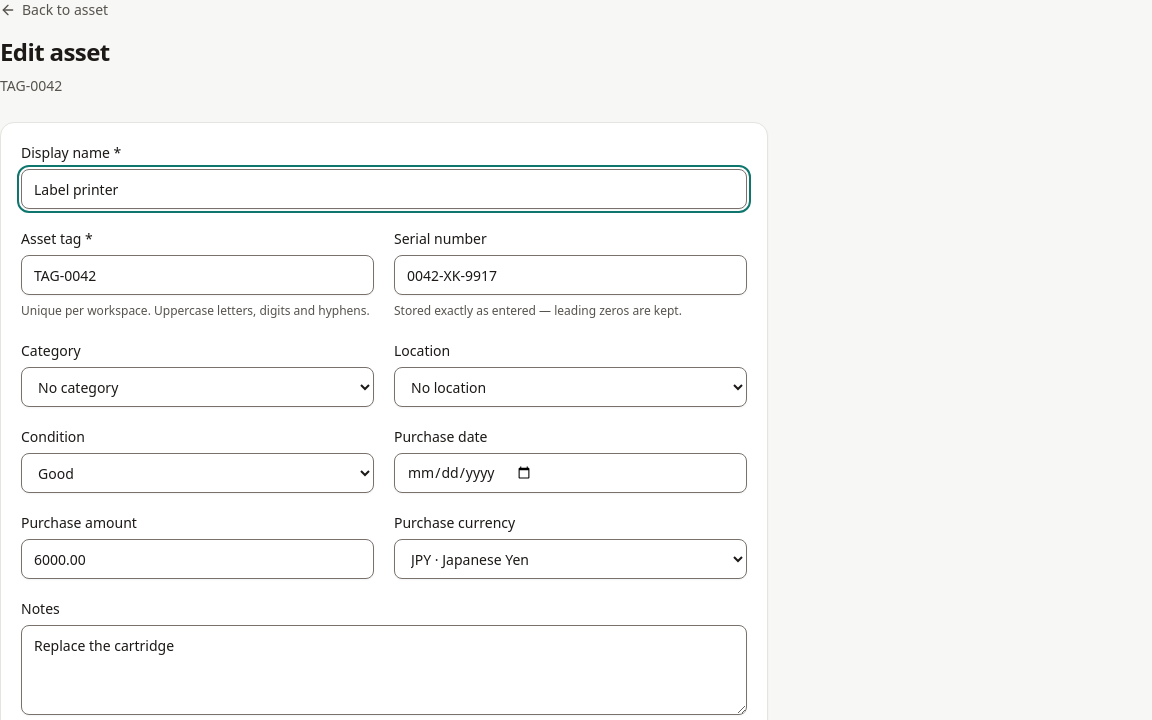
it: AssetForm › keeps the draft after a stale write and loads untouched fields from the latest version
Step 1. Replace the text in the text box labelled "Notes" with "New cartridge fitted" → (384, 670), box top-left (21, 625), bottom-right (747, 715)
(page scrolled)
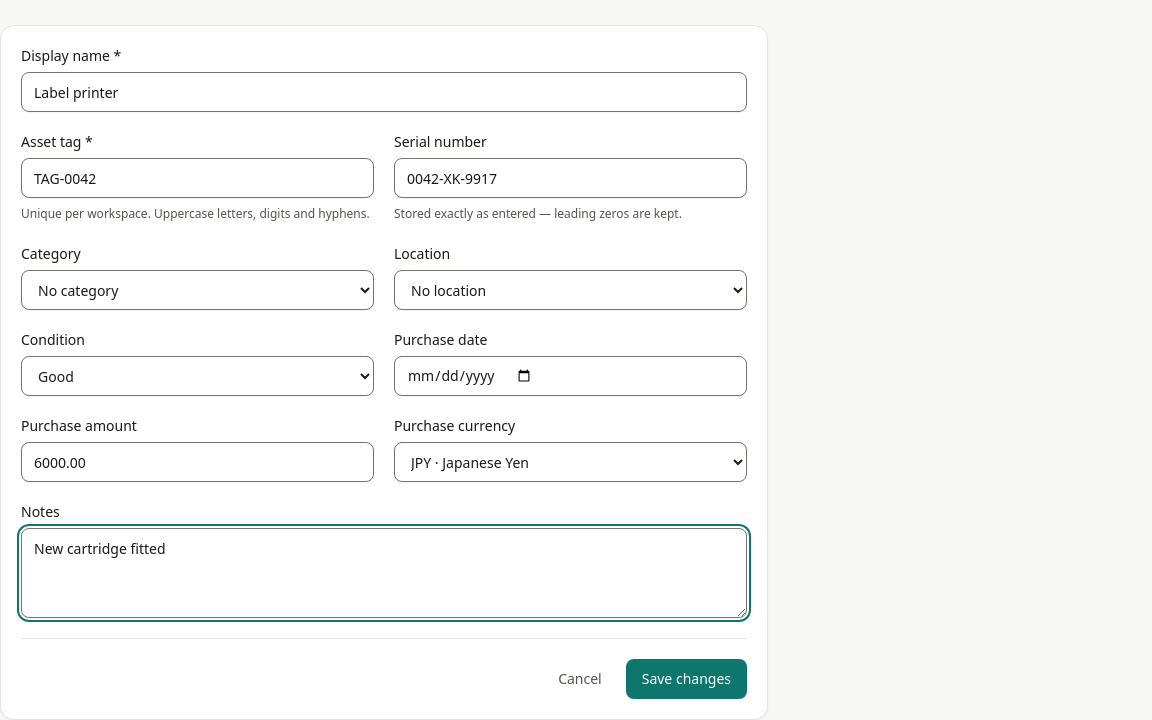
Step 2. Click the button "Save changes" → (686, 679), box top-left (626, 659), bottom-right (747, 699)
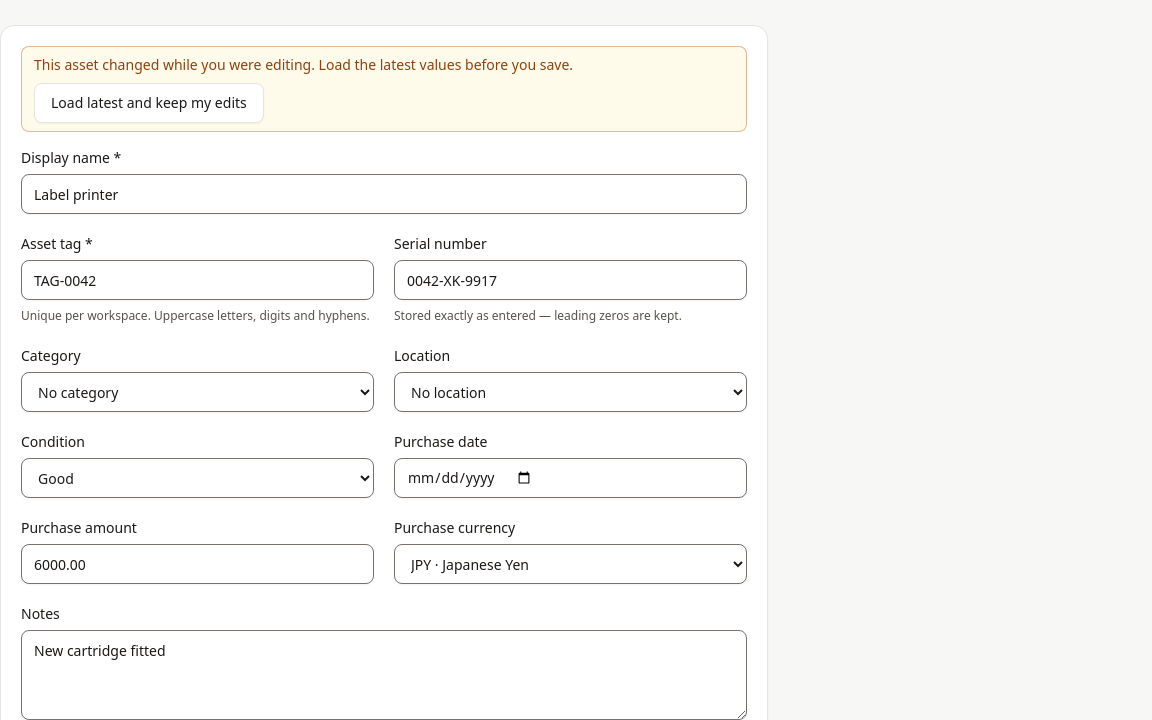
Now the message shows "This asset changed", box top-left (34, 55), bottom-right (573, 74)
Step 3. Click the button "Load latest and keep my edits" → (149, 103), box top-left (34, 83), bottom-right (264, 123)
(page scrolled)
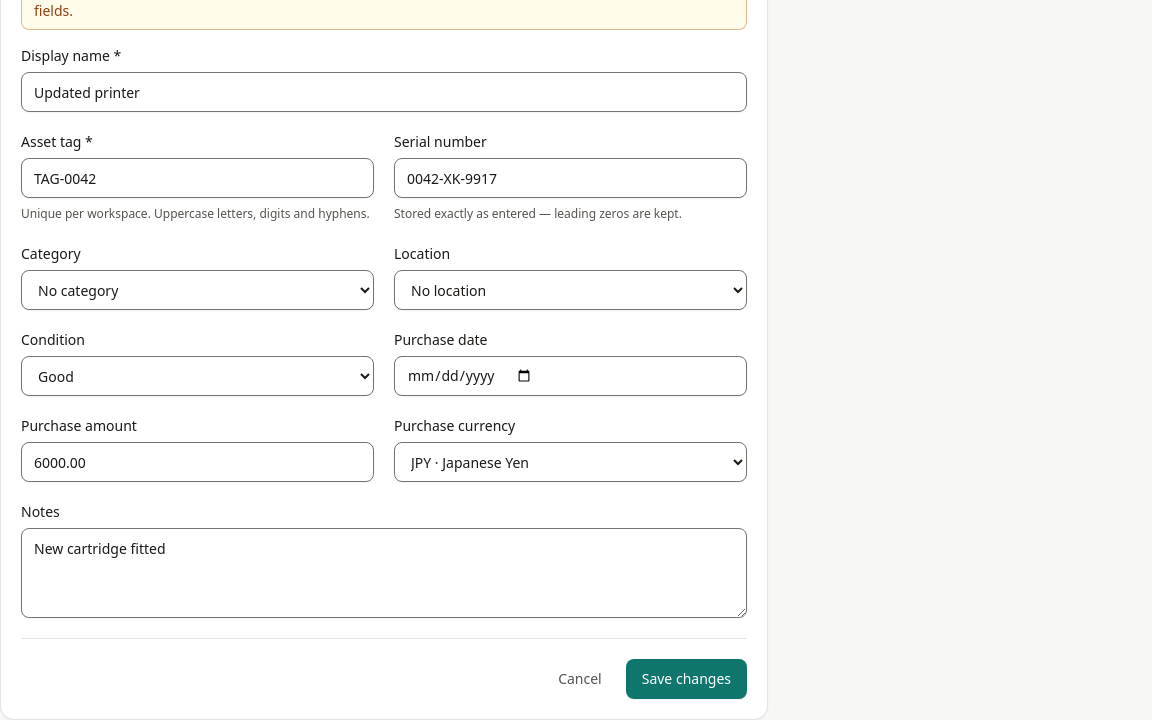
Now the field labelled "Display name *" holds "Updated printer", box top-left (21, 72), bottom-right (747, 112)
Step 4. Click the button "Save changes" → (686, 679), box top-left (626, 659), bottom-right (747, 699)
(page scrolled)
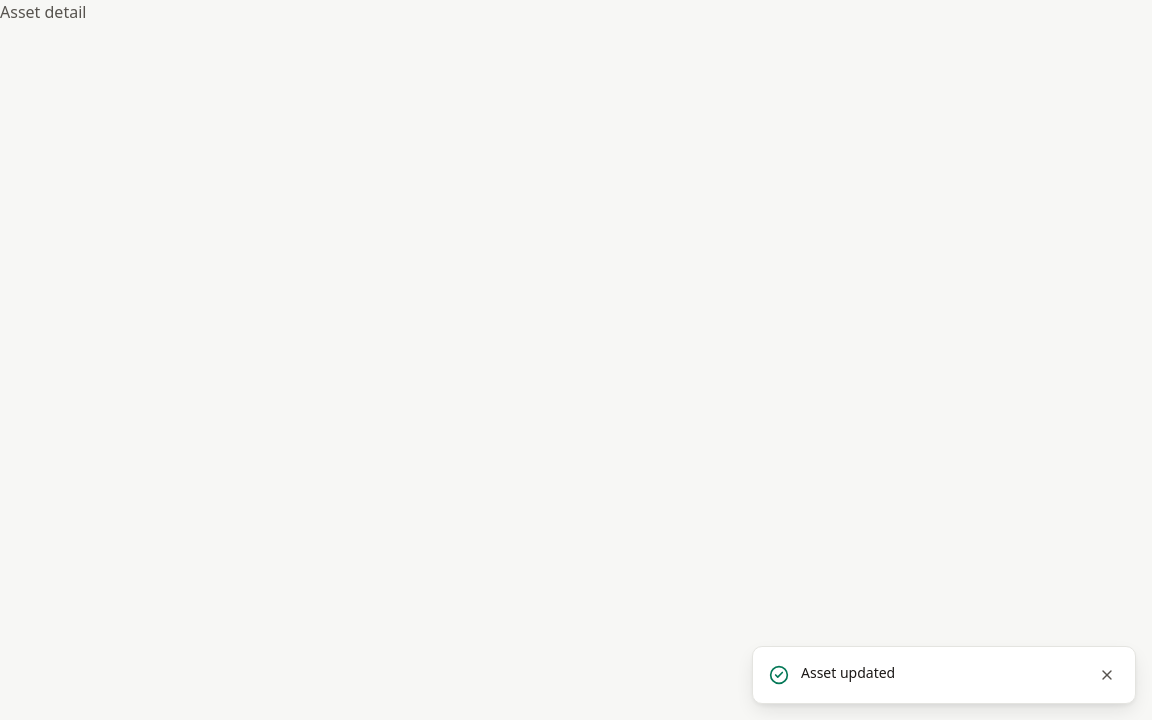
Now the text "Asset updated" is shown, box top-left (801, 663), bottom-right (895, 683)
